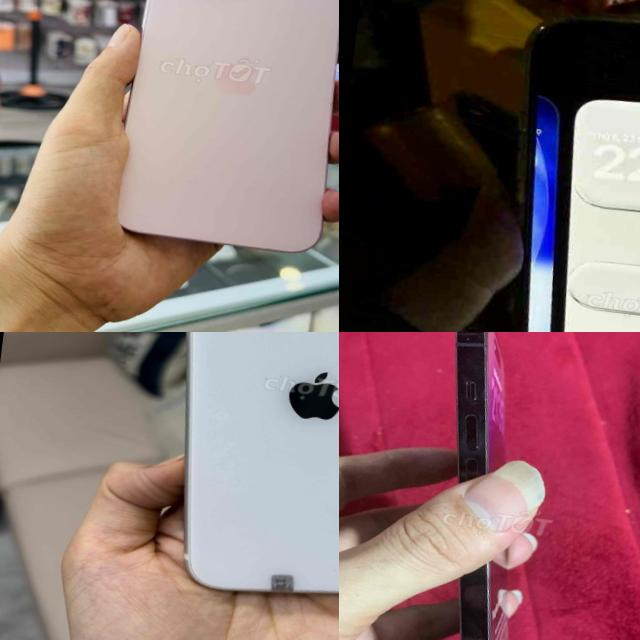scratch: (458, 332, 480, 350)
